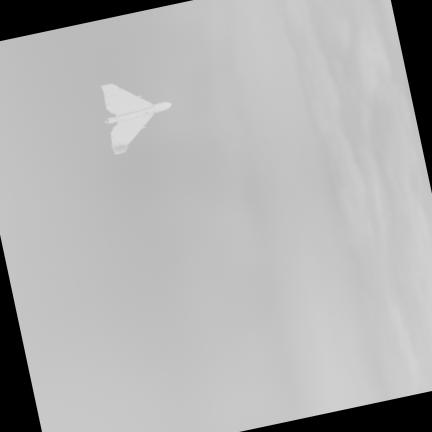Shahed: (101, 84, 170, 155)
